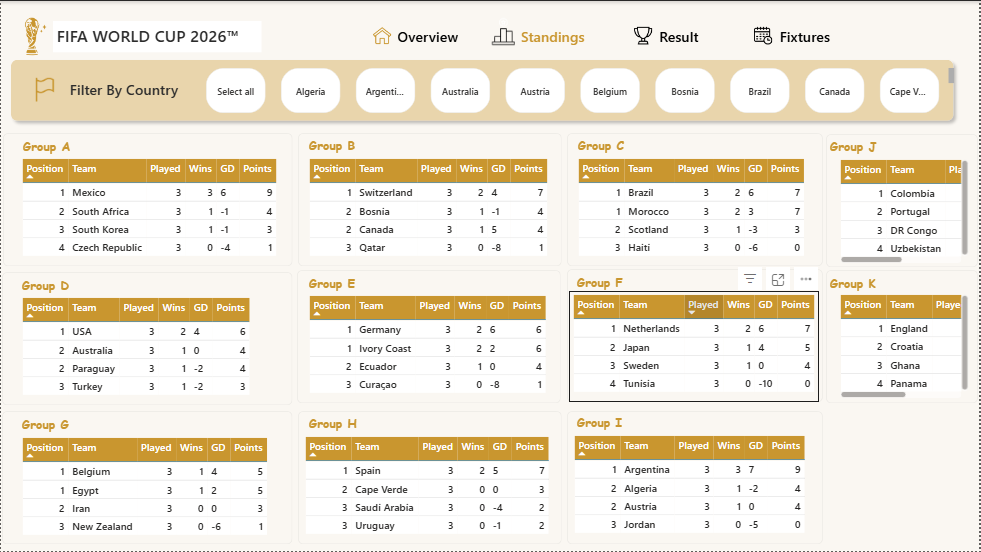

This screenshot's page, from the dashboard's own definition file:
{"tool":"powerbi","page":{"name":"Page 2","canvas":[1280,720],"ordinal":1},"visuals":[{"type":"shape","box":[388.4,537.2,345.4,174.4],"z":0},{"type":"shape","box":[2.8,173.3,379.1,174.4],"z":1000},{"type":"image","box":[17.9,15.1,49.5,61.9],"z":2000},{"type":"textbox","box":[67.4,26.1,272.5,41.3],"z":3000},{"type":"actionButton","box":[476.1,20.6,164.6,51.4],"z":4000},{"type":"actionButton","box":[640.6,20.6,164.6,51.4],"z":5000},{"type":"image","box":[640.6,4.4,35.3,72],"z":6000},{"type":"actionButton","box":[805.2,20.6,164.6,51.4],"z":6000,"group":"g2"},{"type":"actionButton","box":[969.8,20.6,164.6,51.4],"z":7000,"group":"g1"},{"type":"image","box":[486.4,25,23.5,41.1],"z":7000},{"type":"image","box":[828.7,25,23.5,41.1],"z":8000,"group":"g2"},{"type":"shape","box":[639.4,72.4,131.5,13.3],"z":8000},{"type":"image","box":[986,25,23.5,41.1],"z":9000,"group":"g1"},{"type":"tableEx","fields":{"Values":["Sum(Standings.Position)","Standings.Team","Sum(Standings.MatchesPlayed)","Sum(Standings.Wins)","Standings.GD","Sum(Standings.Points)"]},"box":[22.1,201.2,347.7,146.5],"z":9000},{"type":"textbox","box":[23,172.9,93.3,41.2],"z":10000},{"type":"shape","box":[388.4,173.3,345.4,174.4],"z":11000},{"type":"tableEx","fields":{"Values":["Sum(Standings.Position)","Standings.Team","Sum(Standings.MatchesPlayed)","Sum(Standings.Wins)","Standings.GD","Sum(Standings.Points)"]},"box":[397.7,201.2,326.8,146.5],"z":12000},{"type":"textbox","box":[397.5,171.6,93.3,41.2],"z":13000},{"type":"shape","box":[740.7,173.3,334.9,174.4],"z":14000},{"type":"tableEx","fields":{"Values":["Sum(Standings.Position)","Standings.Team","Sum(Standings.MatchesPlayed)","Sum(Standings.Wins)","Standings.GD","Sum(Standings.Points)"]},"box":[750,201.2,316.3,146.5],"z":15000},{"type":"textbox","box":[750.2,171.9,93.3,41.2],"z":16000},{"type":"shape","box":[1.6,354.6,380.2,174.4],"z":17000},{"type":"tableEx","fields":{"Values":["Sum(Standings.Position)","Standings.Team","Sum(Standings.MatchesPlayed)","Sum(Standings.Wins)","Standings.GD","Sum(Standings.Points)"]},"box":[22.1,383.7,347.7,153.5],"z":18000},{"type":"textbox","box":[22.8,355,93.3,41.2],"z":19000},{"type":"shape","box":[387.9,351.9,345.4,174.4],"z":20000},{"type":"tableEx","fields":{"Values":["Sum(Standings.Position)","Standings.Team","Sum(Standings.MatchesPlayed)","Sum(Standings.Wins)","Standings.GD","Sum(Standings.Points)"]},"box":[397.7,381.4,326.8,147.7],"z":21000},{"type":"textbox","box":[397.5,352.1,93.3,41.2],"z":22000},{"type":"shape","box":[740.5,350.9,334.9,174.4],"z":23000},{"type":"tableEx","fields":{"Values":["Sum(Standings.Position)","Standings.Team","Sum(Standings.MatchesPlayed)","Sum(Standings.Wins)","Standings.GD","Sum(Standings.Points)"]},"box":[744.2,380.2,326.8,145.3],"z":24000},{"type":"textbox","box":[748.4,351.4,93.3,41.2],"z":25000},{"type":"shape","box":[1.6,537.2,380.2,174.4],"z":26000},{"type":"tableEx","fields":{"Values":["Sum(Standings.Position)","Standings.Team","Sum(Standings.MatchesPlayed)","Sum(Standings.Wins)","Standings.GD","Sum(Standings.Points)"]},"box":[22.1,566.3,347.7,145.3],"z":27000},{"type":"textbox","box":[22.8,537.3,93.3,41.2],"z":28000},{"type":"tableEx","fields":{"Values":["Sum(Standings.Position)","Standings.Team","Sum(Standings.MatchesPlayed)","Sum(Standings.Wins)","Standings.GD","Sum(Standings.Points)"]},"box":[393,565.1,336.1,146.5],"z":29000},{"type":"textbox","box":[397.5,535.4,93.3,41.2],"z":30000},{"type":"shape","box":[740.7,537.2,334.9,174.4],"z":31000},{"type":"tableEx","fields":{"Values":["Sum(Standings.Position)","Standings.Team","Sum(Standings.MatchesPlayed)","Sum(Standings.Wins)","Standings.GD","Sum(Standings.Points)"]},"box":[745.4,564,325.6,147.7],"z":32000},{"type":"textbox","box":[749.3,533.7,93.3,41.2],"z":33000},{"type":"shape","box":[1080.2,174.4,198.8,174.4],"z":34000},{"type":"tableEx","fields":{"Values":["Sum(Standings.Position)","Standings.Team","Sum(Standings.MatchesPlayed)","Sum(Standings.Wins)","Standings.GD","Sum(Standings.Points)"]},"box":[1093,202.3,177.9,145.3],"z":35000},{"type":"textbox","box":[1080.2,173.3,93,41.9],"z":36000},{"type":"shape","box":[1080.2,352.5,198.8,174.4],"z":37000},{"type":"tableEx","fields":{"Values":["Sum(Standings.Position)","Standings.Team","Sum(Standings.MatchesPlayed)","Sum(Standings.Wins)","Standings.GD","Sum(Standings.Points)"]},"box":[1093,380.2,177.9,145.3],"z":38000},{"type":"textbox","box":[1080.2,352.3,93,40.7],"z":39000},{"type":"group","id":"g1","title":"Group 1","box":[969.8,20.6,164.6,51.4],"z":42000},{"type":"group","id":"g2","title":"Group 2","box":[805.2,20.6,164.6,51.4],"z":43000},{"type":"shape","box":[3.3,67.7,1251.9,97.6],"z":43001},{"type":"advancedSlicerVisual","fields":{"Values":["Countries.Country"]},"box":[262.5,82.5,990,69],"z":43002},{"type":"textbox","box":[85,97.7,170.8,40],"z":43003},{"type":"image","box":[42.5,95.2,30.8,40.8],"z":43004}]}

Visuals, with their boxes in screenshot pixels (x1, y1, x2, y2), scaled from the page's 1280x720 canvas onto the 981x552 screenshot:
shape: l=298, t=412, r=562, b=546
shape: l=2, t=133, r=293, b=267
image: l=14, t=12, r=52, b=59
textbox: l=52, t=20, r=261, b=52
actionButton: l=365, t=16, r=491, b=55
actionButton: l=491, t=16, r=617, b=55
image: l=491, t=3, r=518, b=59
actionButton: l=617, t=16, r=743, b=55
actionButton: l=743, t=16, r=869, b=55
image: l=373, t=19, r=391, b=51
image: l=635, t=19, r=653, b=51
shape: l=490, t=56, r=591, b=66
image: l=756, t=19, r=774, b=51
tableEx - Sum(Standings.Position) x Standings.Team: l=17, t=154, r=283, b=267
textbox: l=18, t=133, r=89, b=164
shape: l=298, t=133, r=562, b=267
tableEx - Sum(Standings.Position) x Standings.Team: l=305, t=154, r=555, b=267
textbox: l=305, t=132, r=376, b=163
shape: l=568, t=133, r=824, b=267
tableEx - Sum(Standings.Position) x Standings.Team: l=575, t=154, r=817, b=267
textbox: l=575, t=132, r=646, b=163
shape: l=1, t=272, r=293, b=406
tableEx - Sum(Standings.Position) x Standings.Team: l=17, t=294, r=283, b=412
textbox: l=17, t=272, r=89, b=304
shape: l=297, t=270, r=562, b=403
tableEx - Sum(Standings.Position) x Standings.Team: l=305, t=292, r=555, b=406
textbox: l=305, t=270, r=376, b=302
shape: l=568, t=269, r=824, b=403
tableEx - Sum(Standings.Position) x Standings.Team: l=570, t=291, r=821, b=403
textbox: l=574, t=269, r=645, b=301
shape: l=1, t=412, r=293, b=546
tableEx - Sum(Standings.Position) x Standings.Team: l=17, t=434, r=283, b=546
textbox: l=17, t=412, r=89, b=444
tableEx - Sum(Standings.Position) x Standings.Team: l=301, t=433, r=559, b=546
textbox: l=305, t=410, r=376, b=442
shape: l=568, t=412, r=824, b=546
tableEx - Sum(Standings.Position) x Standings.Team: l=571, t=432, r=821, b=546
textbox: l=574, t=409, r=646, b=441
shape: l=828, t=134, r=980, b=267
tableEx - Sum(Standings.Position) x Standings.Team: l=838, t=155, r=974, b=266
textbox: l=828, t=133, r=899, b=165
shape: l=828, t=270, r=980, b=404
tableEx - Sum(Standings.Position) x Standings.Team: l=838, t=291, r=974, b=403
textbox: l=828, t=270, r=899, b=301
"Group 1" group: l=743, t=16, r=869, b=55
"Group 2" group: l=617, t=16, r=743, b=55
shape: l=3, t=52, r=962, b=127
advancedSlicerVisual - Countries.Country: l=201, t=63, r=960, b=116
textbox: l=65, t=75, r=196, b=106
image: l=33, t=73, r=56, b=104
